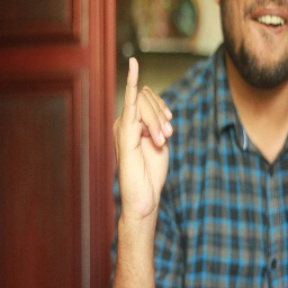I: (108, 55, 177, 221)
